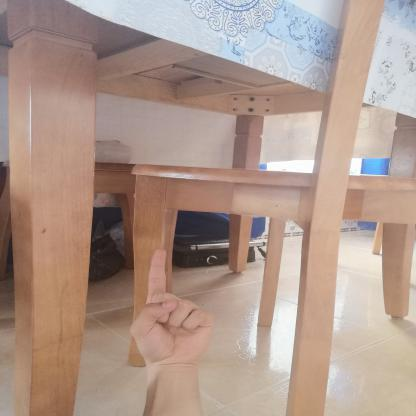BAA: (122, 242, 223, 374)
